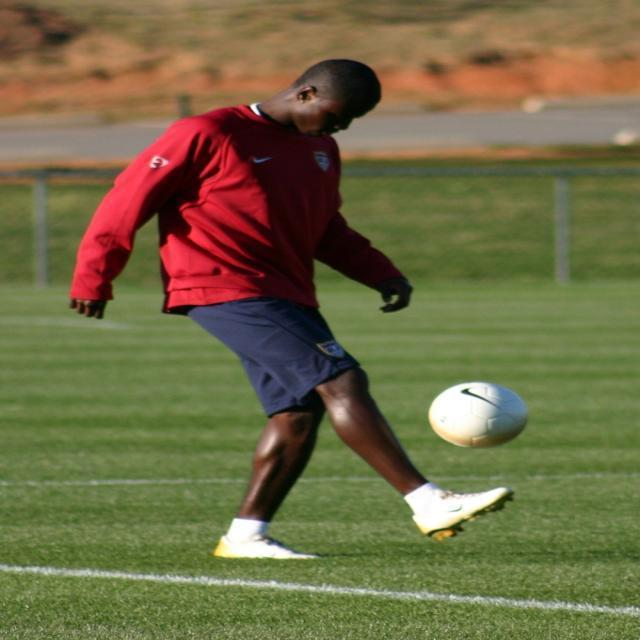football: (423, 371, 538, 449)
